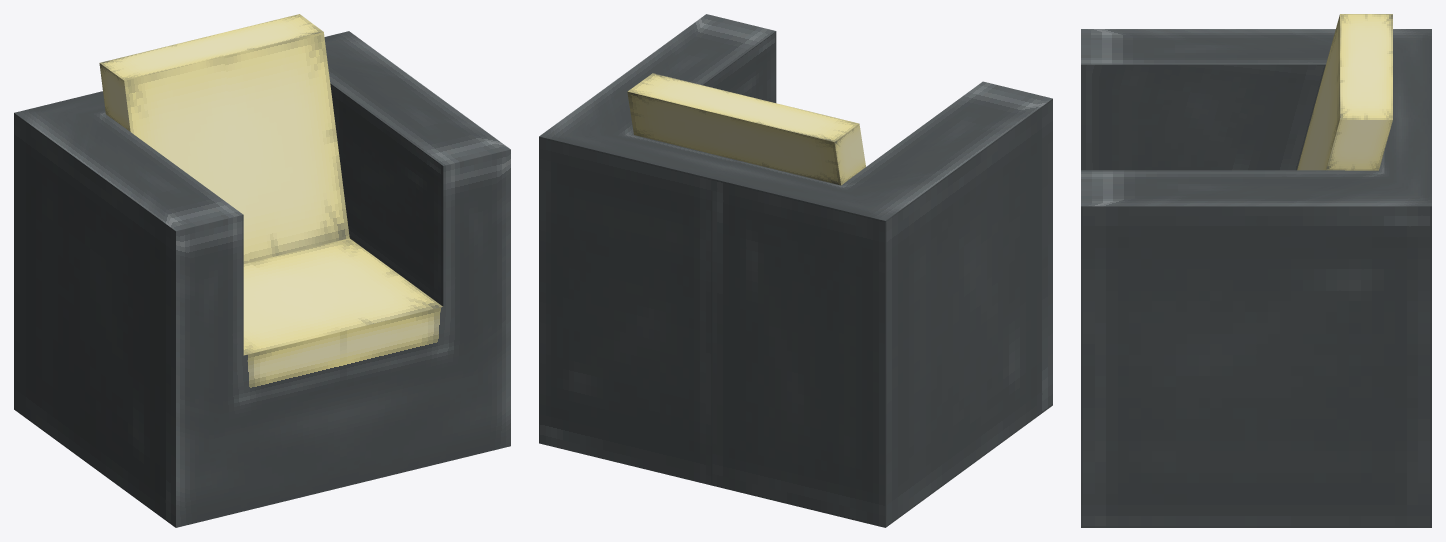
Rendered from sofa1.fbx.
The picture shows the model from 3 angles, left to right: view 1: azimuth 30°, elevation 25°; view 2: azimuth 150°, elevation 25°; view 3: azimuth 270°, elevation 25°; orthographic projection. The views are drawn at different scales.
Parts seen in each view (by area): view 1: sofa1; view 2: sofa1; view 3: sofa1.
Boxes of the visible parts, x1,y1,x2,y2 form: sofa1: (14, 14, 510, 527); sofa1: (539, 14, 1052, 527); sofa1: (1081, 14, 1431, 527).
Bounding box in the file's own units: 91.26 × 89.37 × 76.34.
